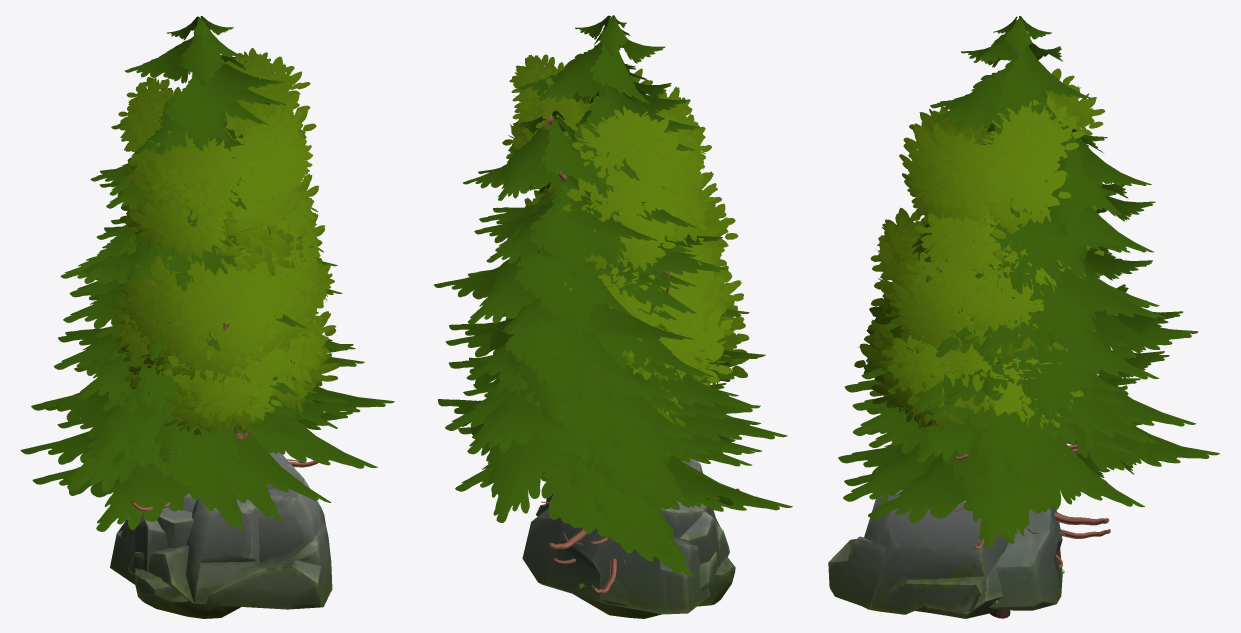
Rendered from nature.glb.
3 views of the same model, side by side, from view 1: azimuth 30°, elevation 25°; view 2: azimuth 150°, elevation 25°; view 3: azimuth 270°, elevation 25° (orthographic). The views are drawn at different scales.
Parts seen in each view (by area): view 1: CommonTree_3, Pine_4, Pine_5, CommonTree_4, Rock_Medium_3, CommonTree_1, Pine_2, CommonTree_2, Rock_Medium_1, Pine_1, Rock_Medium_2, CommonTree_5 (+1 smaller); view 2: Pine_5, Pine_4, CommonTree_3, Rock_Medium_2, CommonTree_4, Pine_2, CommonTree_1, CommonTree_2, Pine_1, Rock_Medium_3, Rock_Medium_1, CommonTree_5 (+1 smaller); view 3: Pine_5, Pine_4, CommonTree_4, Rock_Medium_3, CommonTree_3, Pine_2, CommonTree_2, CommonTree_1, Rock_Medium_2, Pine_1, CommonTree_5, Rock_Medium_1 (+1 smaller).
Part boxes in pixels (left/top/right/bottom): CommonTree_3: left=118, top=55, right=334, bottom=389; Pine_4: left=31, top=16, right=355, bottom=511; Pine_5: left=20, top=163, right=394, bottom=521; CommonTree_4: left=125, top=48, right=319, bottom=238; Rock_Medium_3: left=135, top=452, right=332, bottom=618; CommonTree_1: left=115, top=222, right=339, bottom=435; Pine_2: left=32, top=238, right=352, bottom=531; CommonTree_2: left=110, top=203, right=336, bottom=439; Rock_Medium_1: left=127, top=497, right=260, bottom=603; Pine_1: left=57, top=235, right=330, bottom=483; Rock_Medium_2: left=110, top=506, right=193, bottom=584; CommonTree_5: left=120, top=231, right=316, bottom=430; Pine_5: left=433, top=110, right=770, bottom=559; Pine_4: left=445, top=15, right=787, bottom=593; CommonTree_3: left=530, top=62, right=738, bottom=380; Rock_Medium_2: left=522, top=500, right=710, bottom=614; CommonTree_4: left=502, top=54, right=711, bottom=292; Pine_2: left=455, top=249, right=792, bottom=577; CommonTree_1: left=542, top=193, right=748, bottom=426; CommonTree_2: left=505, top=194, right=749, bottom=384; Pine_1: left=472, top=239, right=762, bottom=549; Rock_Medium_3: left=536, top=493, right=735, bottom=606; Rock_Medium_1: left=547, top=458, right=729, bottom=618; CommonTree_5: left=564, top=266, right=733, bottom=430; Pine_5: left=844, top=125, right=1219, bottom=547; Pine_4: left=844, top=16, right=1169, bottom=549; CommonTree_4: left=899, top=68, right=1105, bottom=618; Rock_Medium_3: left=828, top=490, right=1008, bottom=614; CommonTree_3: left=868, top=94, right=1103, bottom=618; Pine_2: left=838, top=272, right=1144, bottom=543; CommonTree_2: left=854, top=199, right=1092, bottom=617; CommonTree_1: left=863, top=221, right=1103, bottom=615; Rock_Medium_2: left=989, top=507, right=1062, bottom=610; Pine_1: left=866, top=264, right=1140, bottom=525; CommonTree_5: left=905, top=245, right=1104, bottom=413; Rock_Medium_1: left=915, top=526, right=1019, bottom=618.
Bounding box in the file's own units: 6.42 × 10.32 × 6.36.
10 materials, 10 textured.
